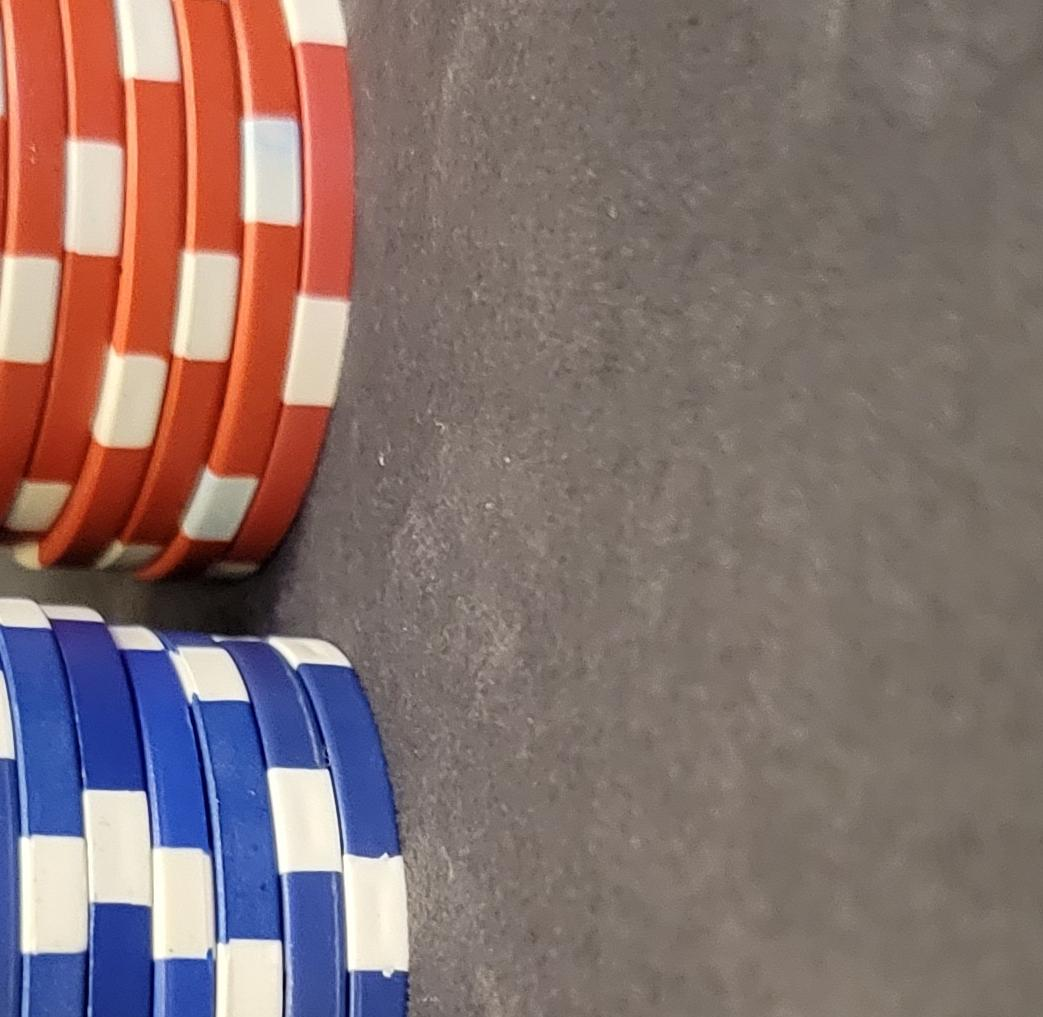Chip: (1, 180, 405, 1017)
